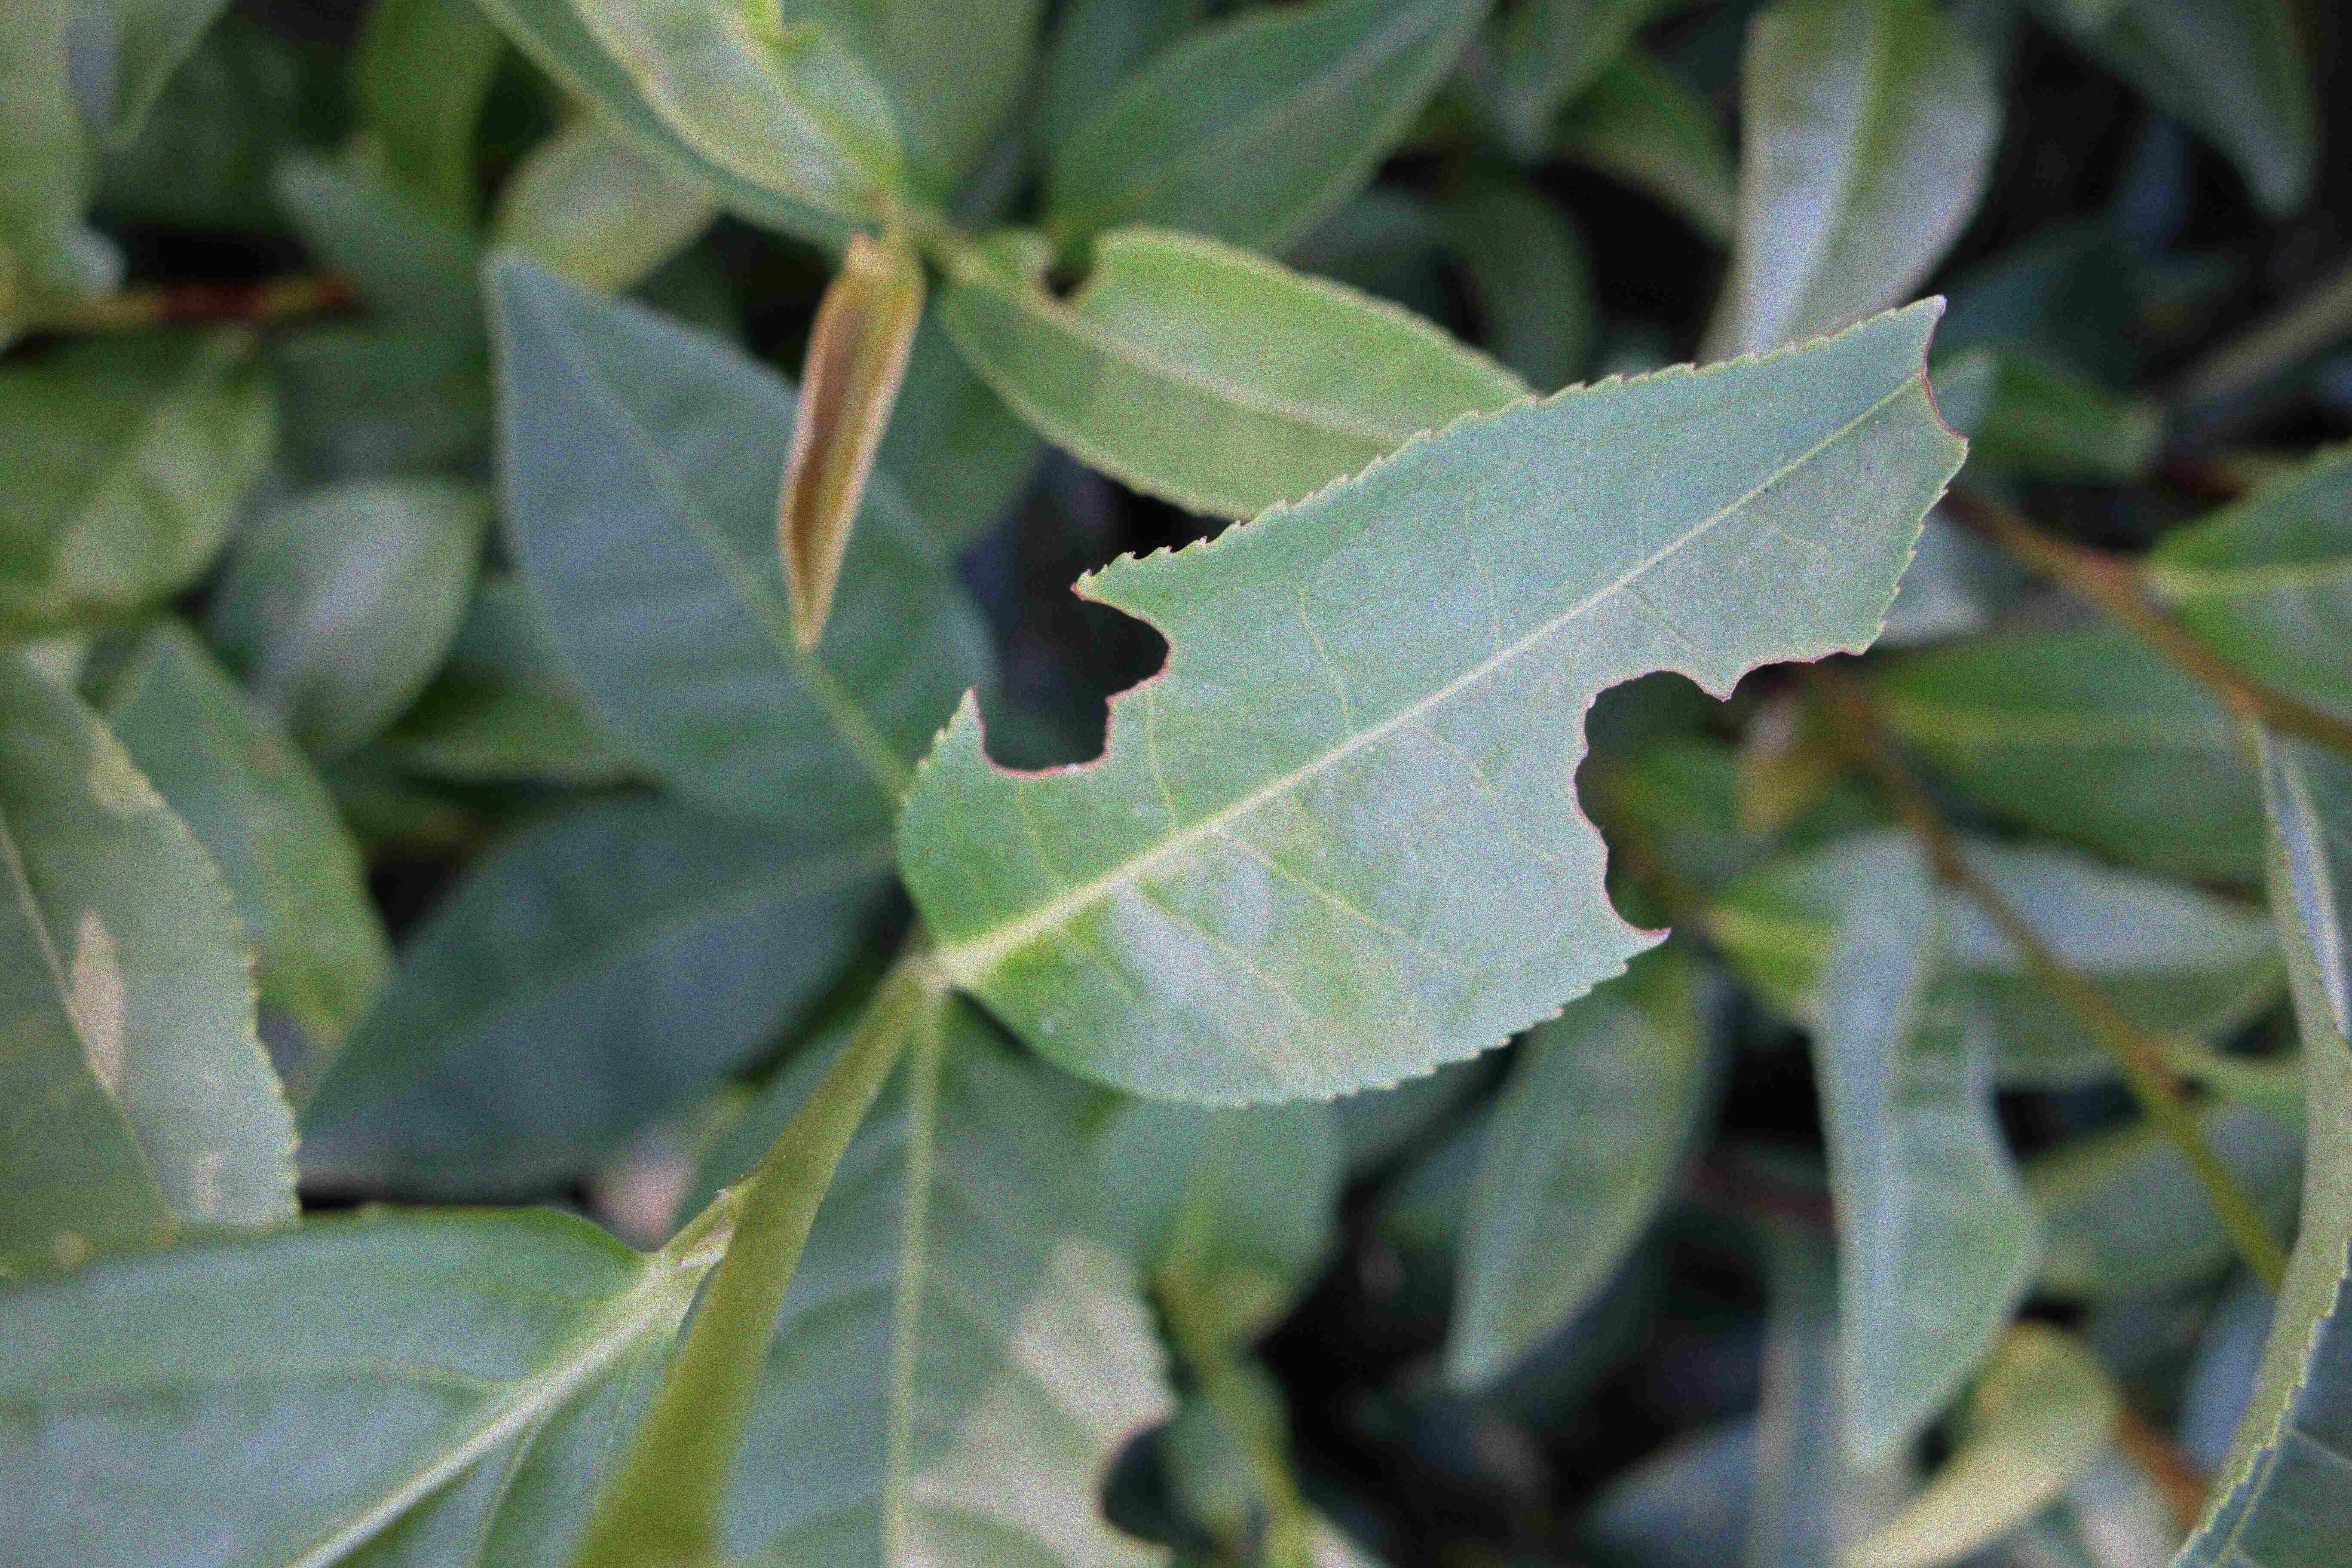chihuo_high: (891, 294, 1972, 1115)
chihuo_low: (938, 226, 1545, 514)
